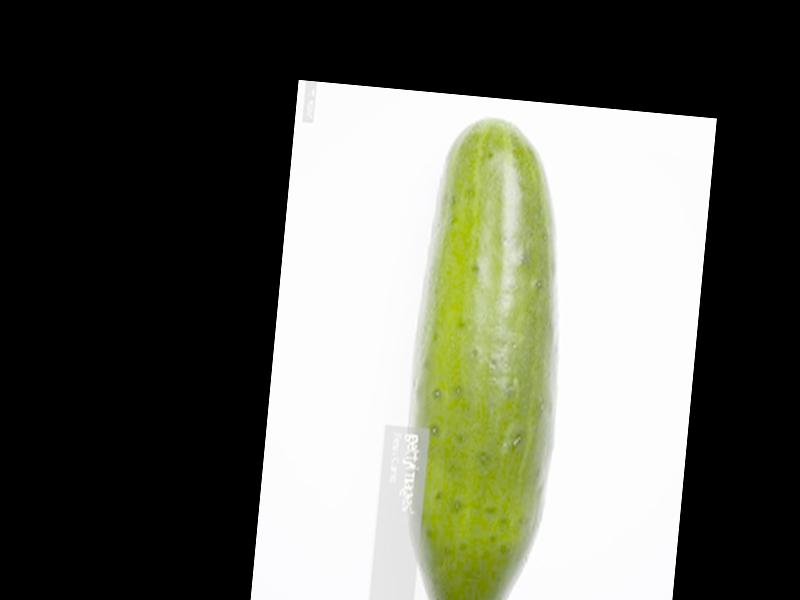Cucumber: (389, 110, 584, 600)
